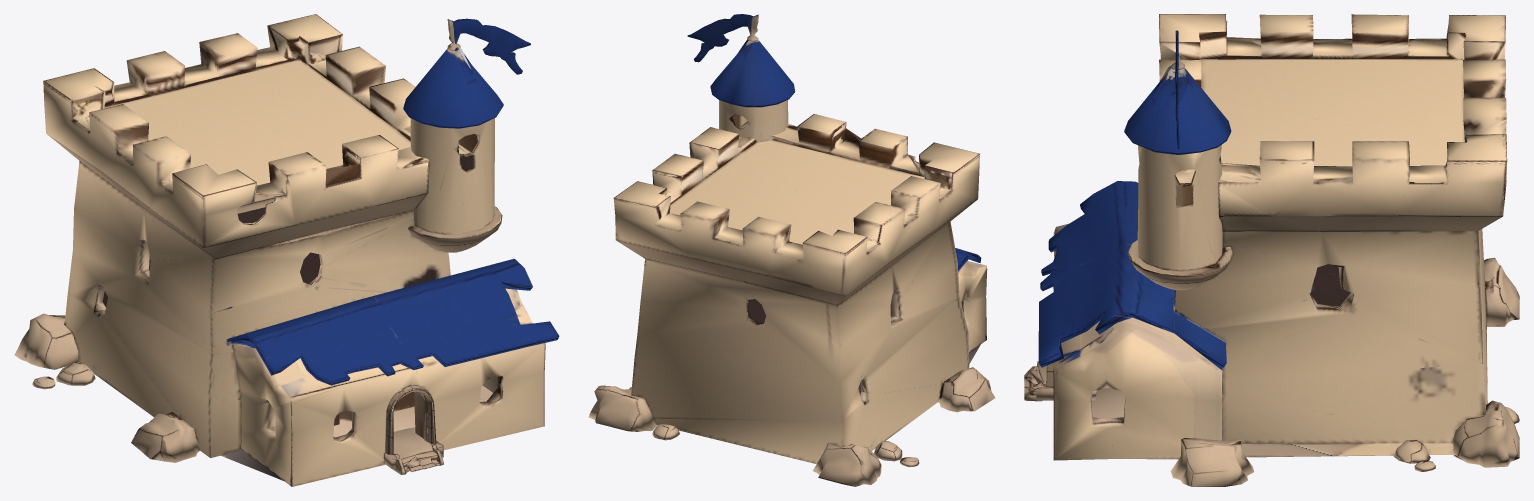
Rendered from meshy-c3-d1.glb.
3 views of the same model, side by side, from view 1: azimuth 30°, elevation 25°; view 2: azimuth 150°, elevation 25°; view 3: azimuth 270°, elevation 25° (orthographic). The views are drawn at different scales.
Bounding box in the file's own units: 0.9896 × 0.9162 × 1.
1 material, 1 textured.
